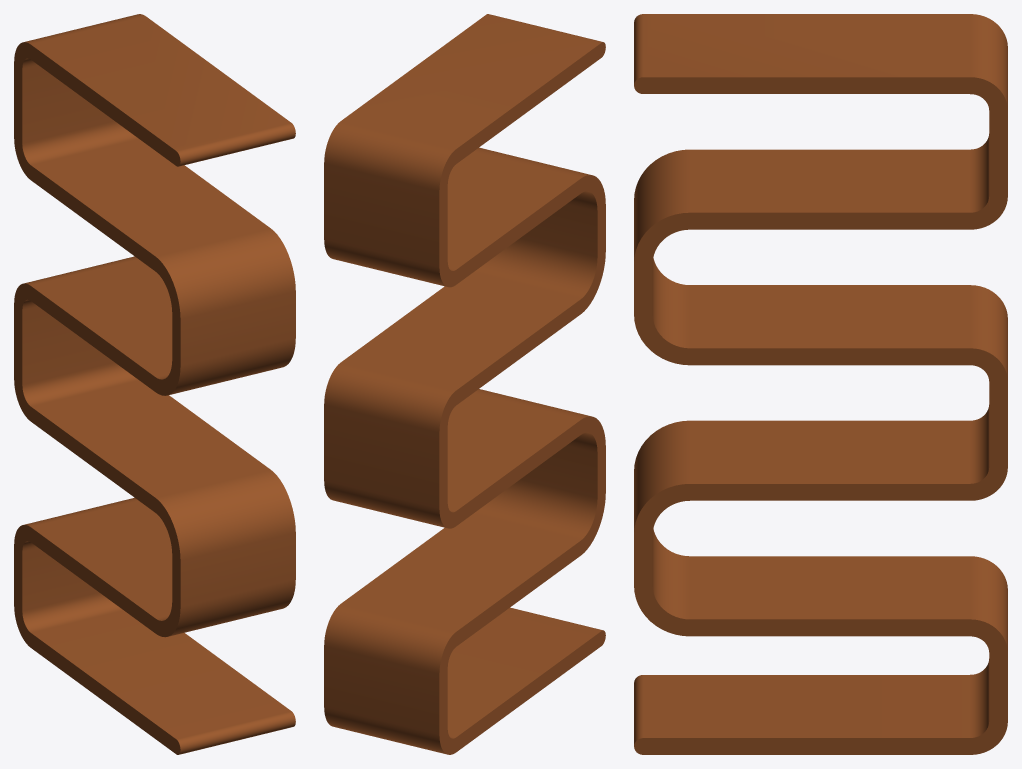
3 views of the same model, side by side, from view 1: azimuth 30°, elevation 25°; view 2: azimuth 150°, elevation 25°; view 3: azimuth 270°, elevation 25° (orthographic). The views are drawn at different scales.
Parts seen in each view (by area): view 1: Mesh2_Model; view 2: Mesh2_Model; view 3: Mesh2_Model.
Boxes of the visible parts, x1,y1,x2,y2 form: Mesh2_Model: (14,14,295,754); Mesh2_Model: (324,14,605,754); Mesh2_Model: (634,14,1007,754).
Bounding box in the file's own units: 0.2002 × 1 × 0.5005.
